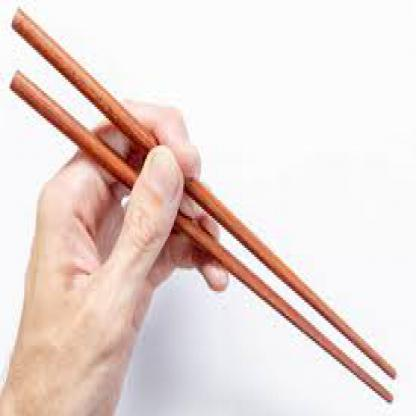chopstick: (10, 6, 398, 380), (9, 70, 393, 407)
